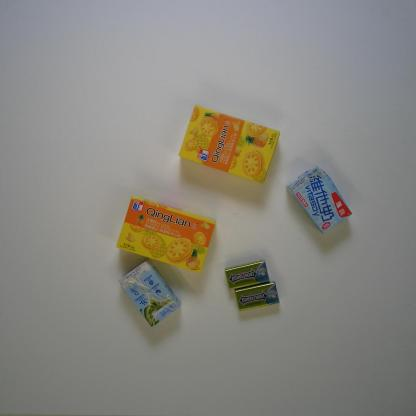Dessert: (178, 105, 280, 184), (116, 196, 216, 274)
Gum: (224, 260, 270, 290), (235, 282, 280, 311)
Milk: (286, 164, 353, 235), (117, 258, 181, 328)
